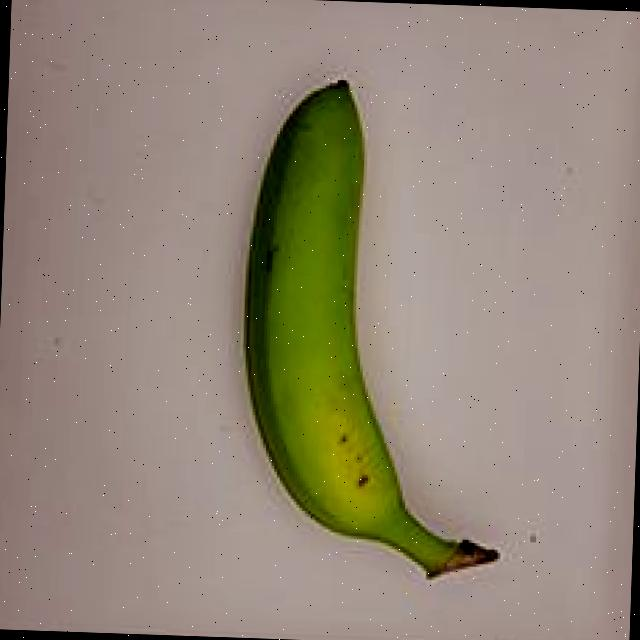Unripe: (184, 26, 537, 622)
